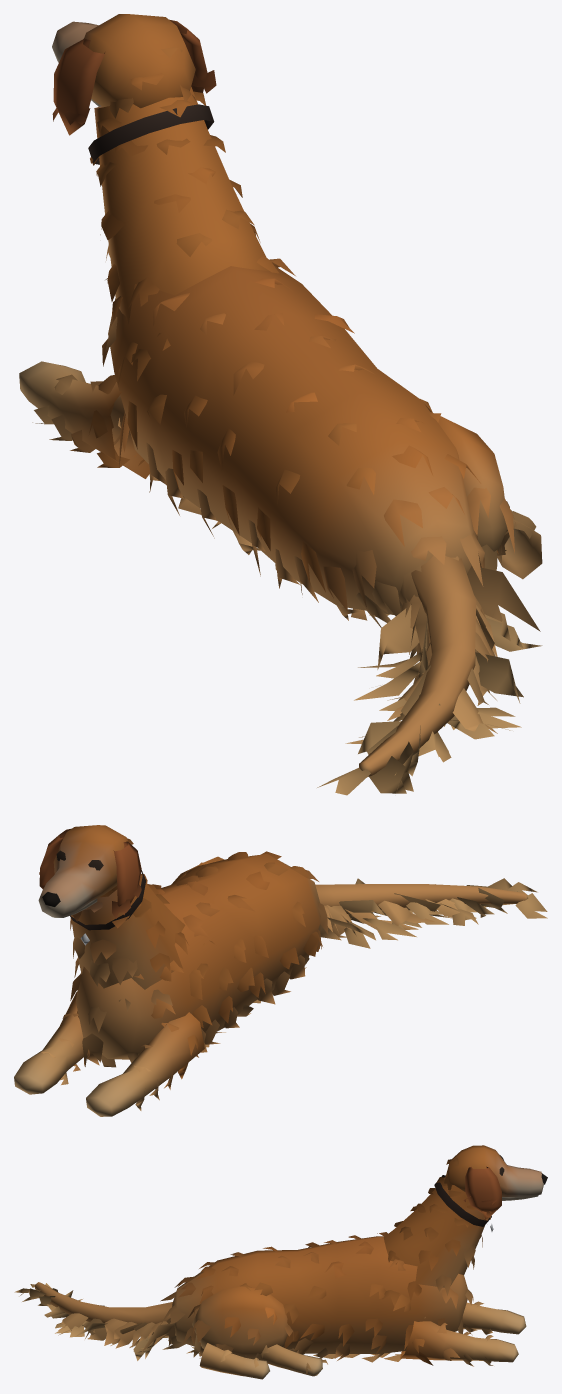
The model's file is porch-dog-low.glb.
The picture shows the model from 3 angles, top to bottom: view 1: azimuth 30°, elevation 25°; view 2: azimuth 150°, elevation 25°; view 3: azimuth 270°, elevation 25°; orthographic projection. The views are drawn at different scales.
Visible parts, largest first — view 1: body-mesh, head-mesh; view 2: body-mesh, head-mesh; view 3: body-mesh, head-mesh.
Boxes of the visible parts, x1=… form: body-mesh: x1=19, y1=87, x2=542, y2=795; head-mesh: x1=52, y1=14, x2=216, y2=135; body-mesh: x1=14, y1=851, x2=547, y2=1116; head-mesh: x1=38, y1=825, x2=141, y2=918; body-mesh: x1=14, y1=1175, x2=526, y2=1379; head-mesh: x1=444, y1=1145, x2=547, y2=1220.
Bounding box in the file's own units: 0.6812 × 0.6286 × 1.54.
